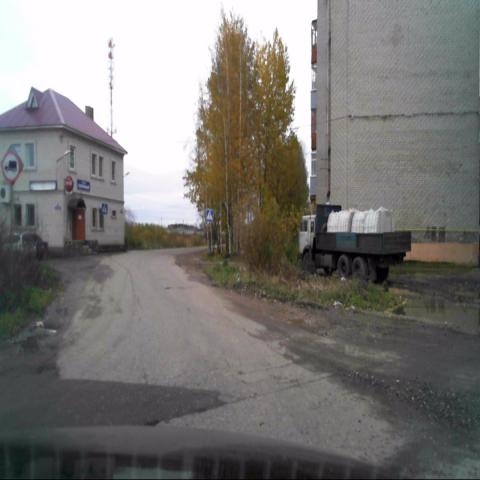3_4_1: (2, 152, 20, 182)
5_19_1: (206, 209, 212, 221)
